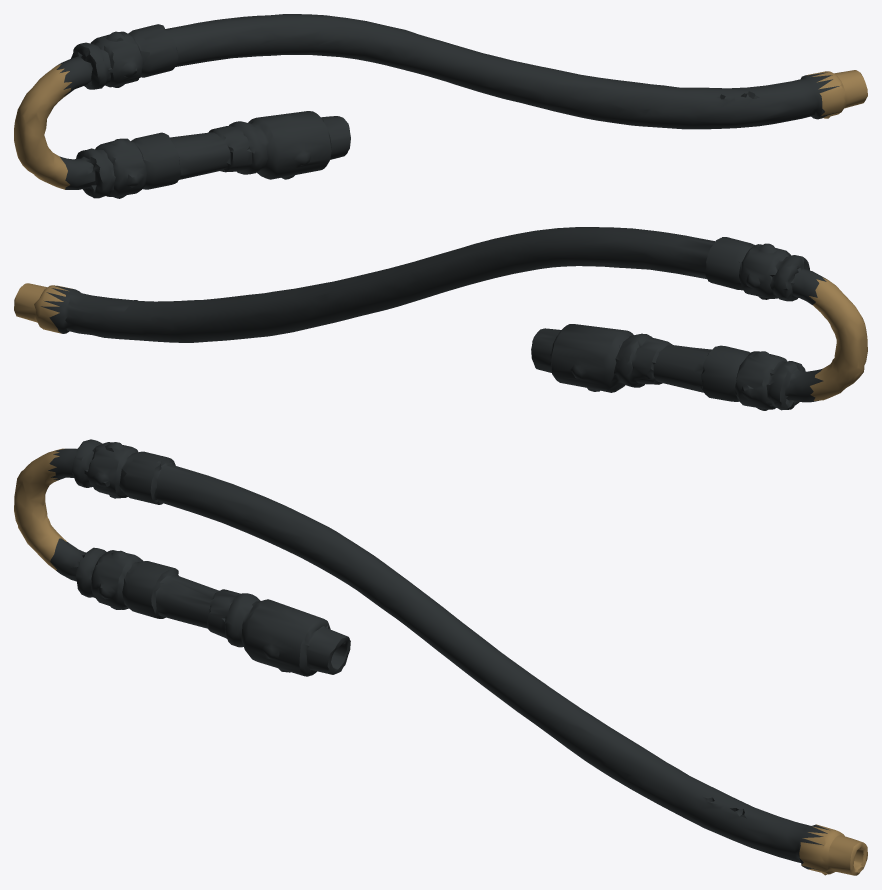
Rendered from 15_HoseLower.glb.
3 views of the same model, one above another, from view 1: azimuth 30°, elevation 25°; view 2: azimuth 150°, elevation 25°; view 3: azimuth 330°, elevation 25° (orthographic).
Parts seen in each view (by area): view 1: SM_TS_BrineMK1_HoseLower_V02; view 2: SM_TS_BrineMK1_HoseLower_V02; view 3: SM_TS_BrineMK1_HoseLower_V02.
Part boxes in pixels (left/top/right/bottom): SM_TS_BrineMK1_HoseLower_V02: left=14, top=14, right=867, bottom=198; SM_TS_BrineMK1_HoseLower_V02: left=14, top=227, right=867, bottom=410; SM_TS_BrineMK1_HoseLower_V02: left=14, top=439, right=867, bottom=875.
Bounding box in the file's own units: 0.3621 × 0.1066 × 0.027.
